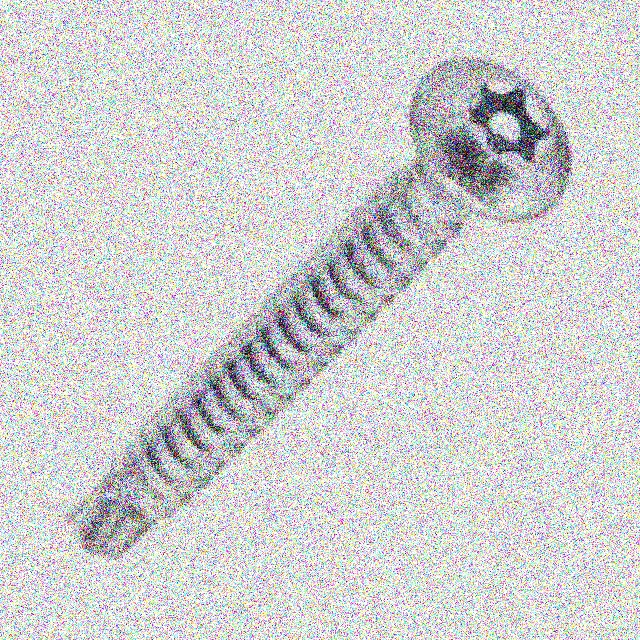torx: (410, 57, 573, 226)
